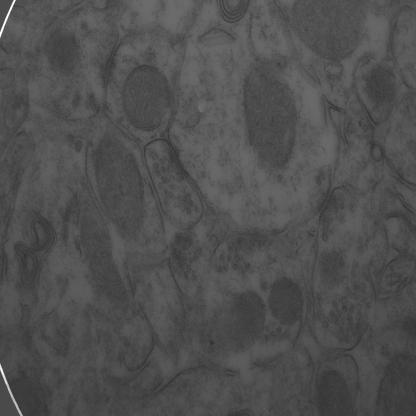mitochondria: (242, 64, 297, 167), (94, 136, 146, 244), (70, 211, 123, 294), (295, 0, 359, 62), (122, 62, 172, 134), (267, 278, 305, 323), (229, 291, 264, 339)
